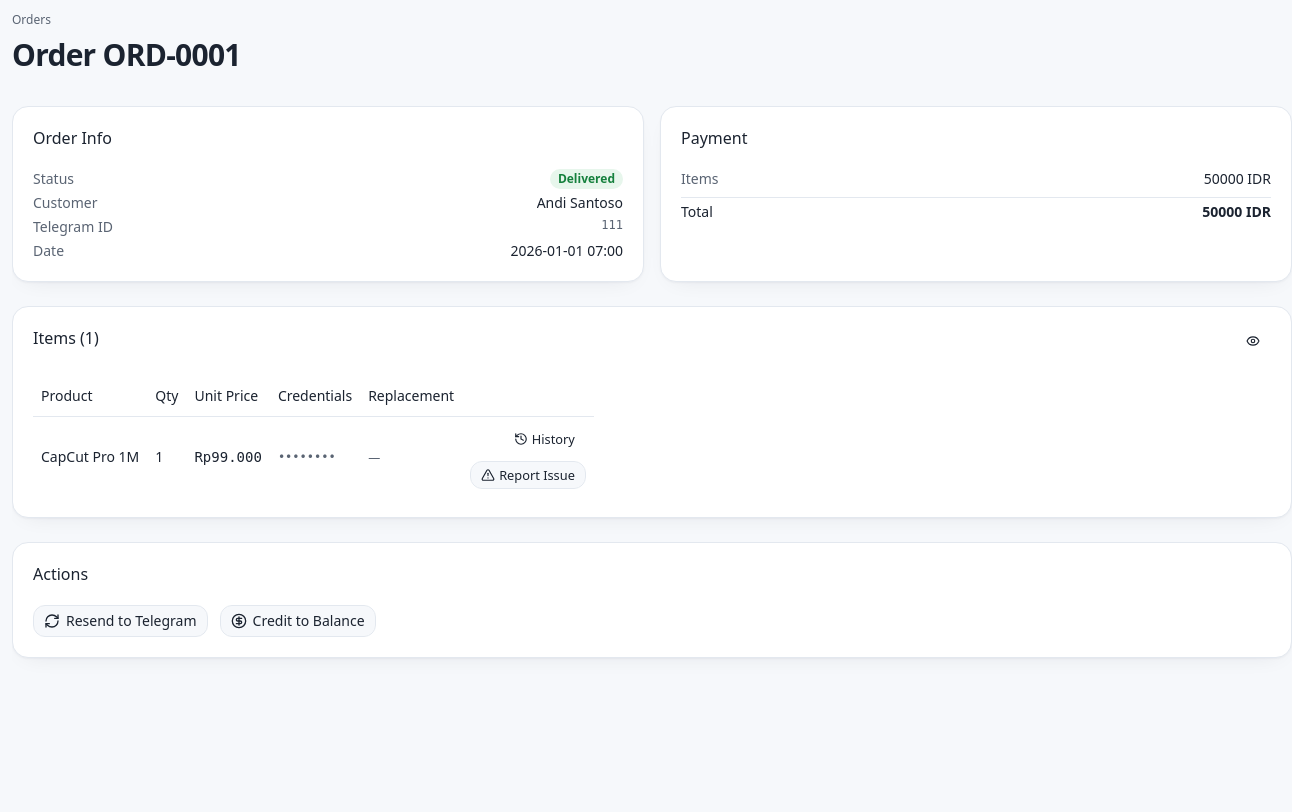
Test: OrderDetailPage — credential reveal › keeps revealed secrets out of both query and mutation caches and prevents duplicate reveal
This screenshot has width=1292, height=812.
What coordinates should you click on to do the following:
click the button named "Show delivered credentials"
I would click on:
 (1253, 340)
Its box is [1235,326,1271,354].
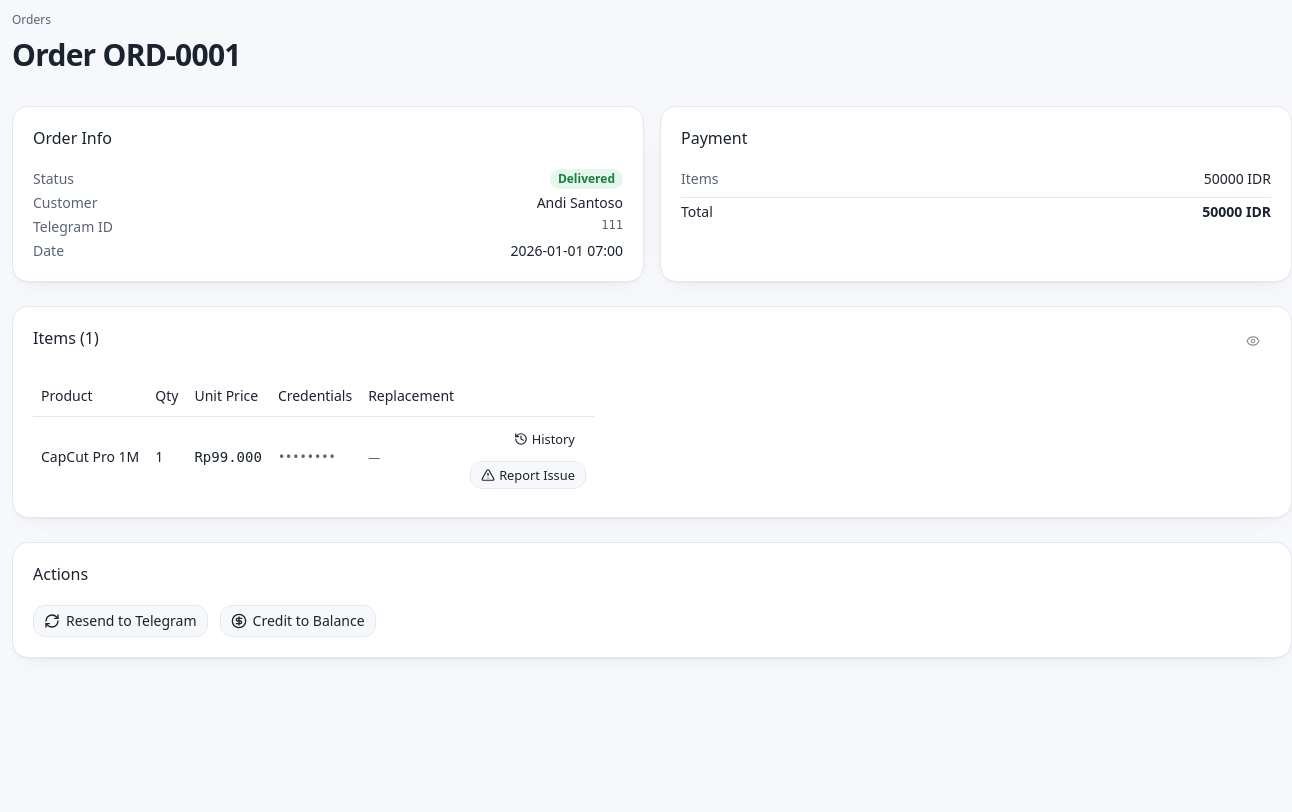
What coordinates should you click on to do the following:
click the button named "Show delivered credentials"
I would click on:
 (1253, 340)
Its box is [1235,326,1271,354].
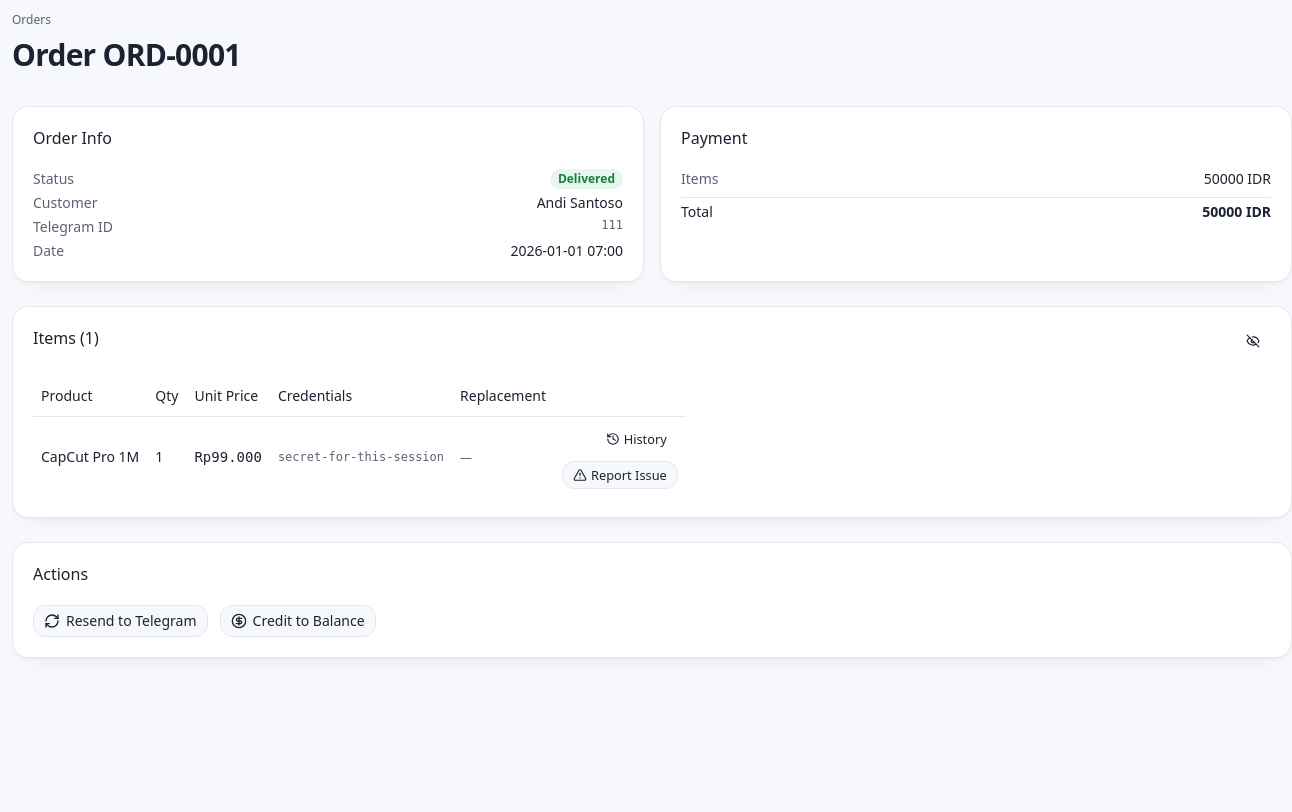
Expected: the text "secret-for-this-session" is shown, [278,449,444,465]
What coordinates should you click on to do the following:
click the button named "Hide delivered credentials"
I would click on:
 (1253, 340)
Its box is [1235,326,1271,354].
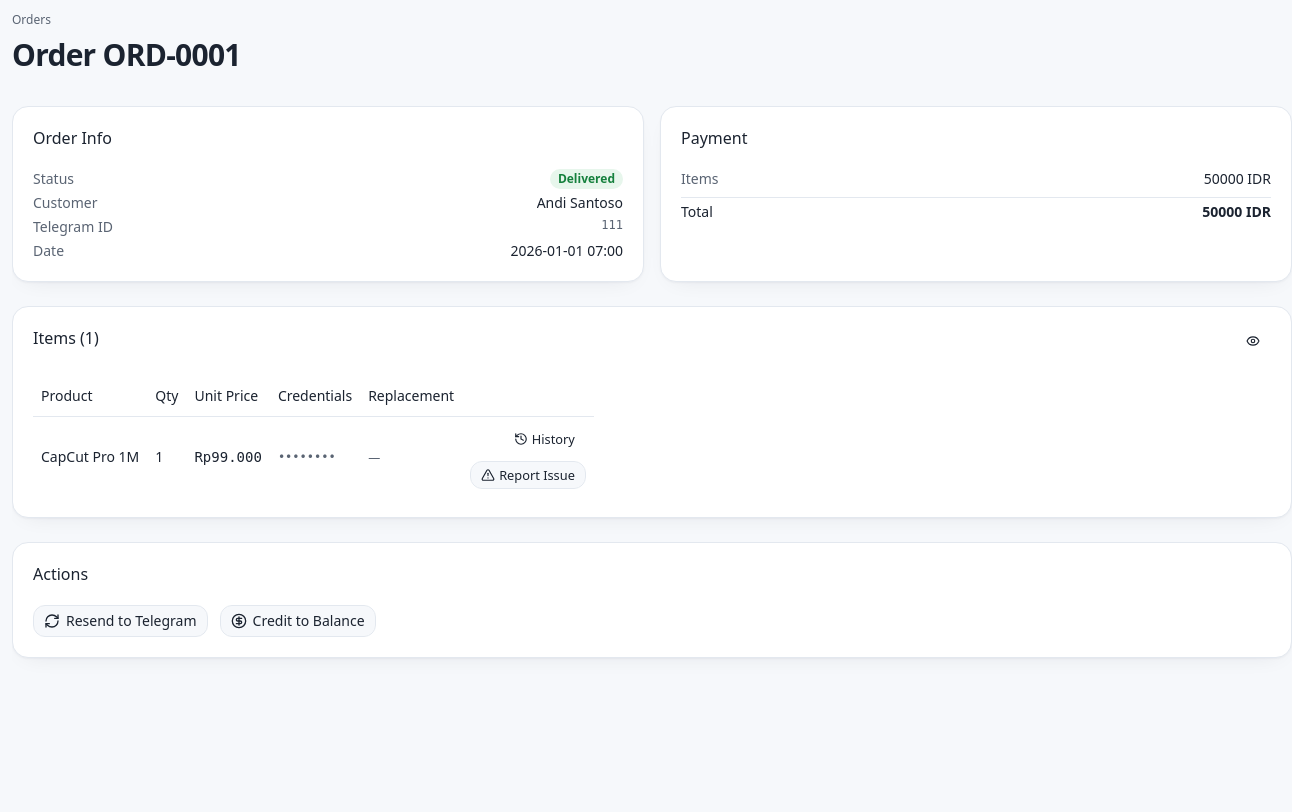
Expected: the text "secret-for-this-session" is gone
